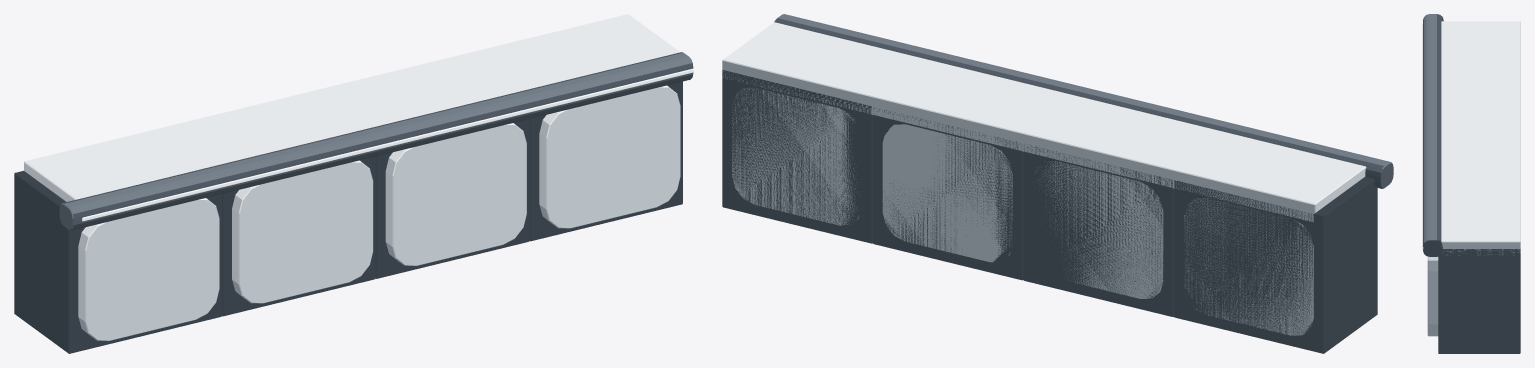
Rendered from Terrain_TopRun4L.gltf.
The picture shows the model from 3 angles, left to right: view 1: azimuth 30°, elevation 25°; view 2: azimuth 150°, elevation 25°; view 3: azimuth 270°, elevation 25°; orthographic projection. The views are drawn at different scales.
Parts seen in each view (by area): view 1: Terrain_TopRun4L_baked; view 2: Terrain_TopRun4L_baked; view 3: Terrain_TopRun4L_baked.
Boxes of the visible parts, box(x1,y1,x2,y2) form: Terrain_TopRun4L_baked: box(14, 14, 693, 353); Terrain_TopRun4L_baked: box(722, 14, 1393, 353); Terrain_TopRun4L_baked: box(1422, 14, 1520, 353).
Bounding box in the file's own units: 4.04 × 0.9495 × 0.74.
